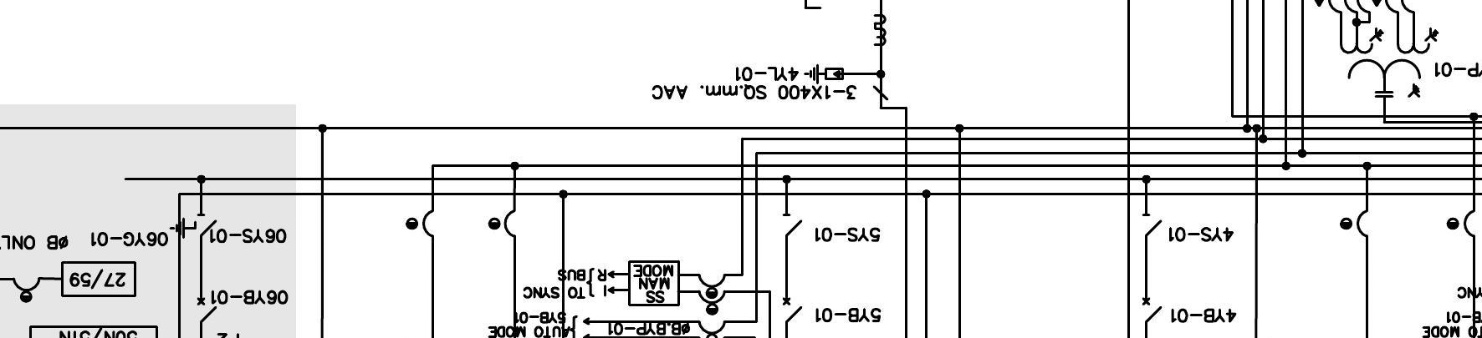115_breaker: (782, 297, 803, 323), (1142, 297, 1162, 323), (197, 297, 217, 323)
115_cvt_3p: (1339, 27, 1440, 98)
115_ds: (781, 214, 803, 237), (1141, 214, 1162, 237)
115_la: (803, 63, 844, 85)
ss_man_mode: (628, 260, 681, 307)
